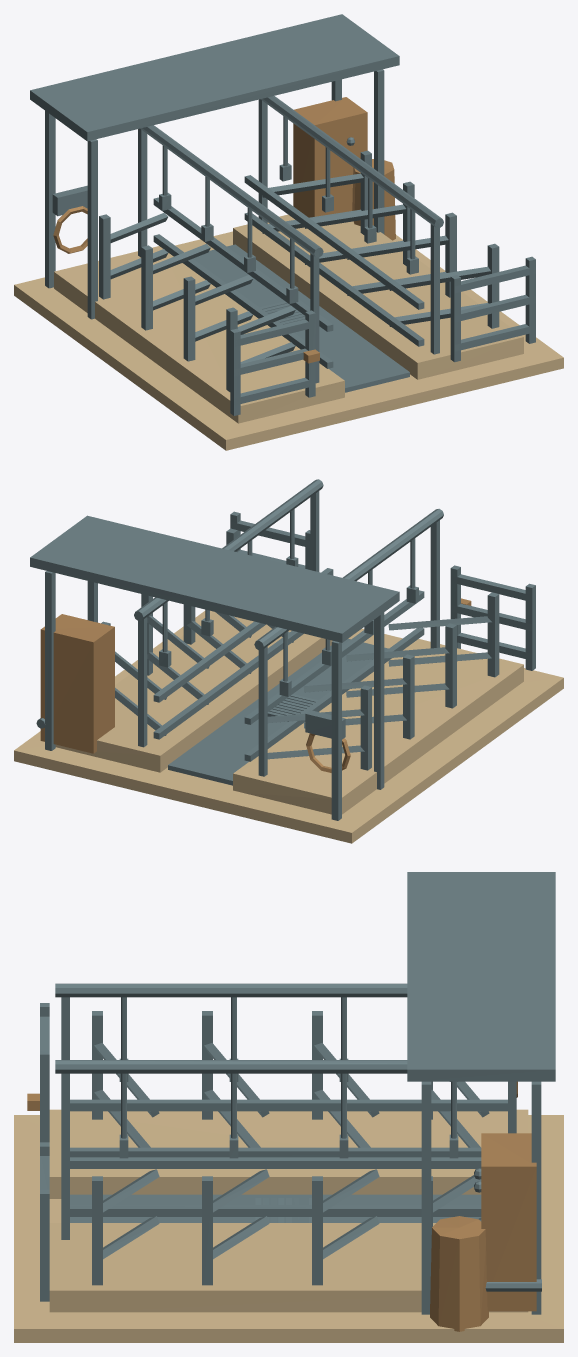
File: automated-milking-parlor.source.glb
The picture shows the model from 3 angles, top to bottom: view 1: azimuth 30°, elevation 25°; view 2: azimuth 150°, elevation 25°; view 3: azimuth 270°, elevation 25°; orthographic projection. The views are drawn at different scales.
Visible parts, largest first — view 1: automated-milking-parlor-equipment-canopy-roof-mesh, automated-milking-parlor-parlor-slab-mesh, automated-milking-parlor-left-stall-platform-mesh, automated-milking-parlor-right-stall-platform-mesh, automated-milking-parlor-central-operator-lane-mesh, automated-milking-parlor-control-cabinet-mesh, automated-milking-parlor-left-milk-main-mesh, automated-milking-parlor-right-milk-main-mesh, automated-milking-parlor-right-inner-long-rail-1.02-mesh, automated-milking-parlor-right-inner-long-rail-0.54-mesh, automated-milking-parlor-canopy-post--1.95--1.25-mesh, automated-milking-parlor-canopy-post--1.95--2.25-mesh (+33 smaller); view 2: automated-milking-parlor-equipment-canopy-roof-mesh, automated-milking-parlor-parlor-slab-mesh, automated-milking-parlor-left-stall-platform-mesh, automated-milking-parlor-right-stall-platform-mesh, automated-milking-parlor-control-cabinet-mesh, automated-milking-parlor-central-operator-lane-mesh, automated-milking-parlor-canopy-post--1.95--2.25-mesh, automated-milking-parlor-canopy-post--1.95--1.25-mesh, automated-milking-parlor-canopy-post-1.95--2.25-mesh, automated-milking-parlor-left-milk-main-mesh, automated-milking-parlor-right-milk-main-mesh, automated-milking-parlor-right-inner-long-rail-0.54-mesh (+28 smaller); view 3: automated-milking-parlor-equipment-canopy-roof-mesh, automated-milking-parlor-right-stall-platform-mesh, automated-milking-parlor-parlor-slab-mesh, automated-milking-parlor-left-stall-platform-mesh, automated-milking-parlor-control-cabinet-mesh, automated-milking-parlor-pressure-vessel-mesh, automated-milking-parlor-left-milk-main-mesh, automated-milking-parlor-left-inner-long-rail-1.02-mesh, automated-milking-parlor-right-milk-main-mesh, automated-milking-parlor-right-inner-long-rail-1.02-mesh, automated-milking-parlor-central-operator-lane-mesh, automated-milking-parlor-right-inner-long-rail-0.54-mesh (+19 smaller).
Part boxes in pixels (x1,y1,x2,y2): automated-milking-parlor-equipment-canopy-roof-mesh: (30,14,399,141); automated-milking-parlor-parlor-slab-mesh: (14,231,563,450); automated-milking-parlor-left-stall-platform-mesh: (54,246,344,423); automated-milking-parlor-right-stall-platform-mesh: (233,214,523,379); automated-milking-parlor-central-operator-lane-mesh: (193,244,409,392); automated-milking-parlor-control-cabinet-mesh: (293,97,367,217); automated-milking-parlor-left-milk-main-mesh: (140,125,323,257); automated-milking-parlor-right-milk-main-mesh: (260,96,443,228); automated-milking-parlor-right-inner-long-rail-1.02-mesh: (244,175,424,309); automated-milking-parlor-right-inner-long-rail-0.54-mesh: (244,212,424,346); automated-milking-parlor-canopy-post--1.95--1.25-mesh: (87,139,97,319); automated-milking-parlor-canopy-post--1.95--2.25-mesh: (45,111,55,288); automated-milking-parlor-equipment-canopy-roof-mesh: (30,515,399,642); automated-milking-parlor-parlor-slab-mesh: (14,610,563,843); automated-milking-parlor-left-stall-platform-mesh: (233,639,523,814); automated-milking-parlor-right-stall-platform-mesh: (55,612,332,772); automated-milking-parlor-control-cabinet-mesh: (40,614,114,753); automated-milking-parlor-central-operator-lane-mesh: (168,638,388,785); automated-milking-parlor-canopy-post--1.95--2.25-mesh: (331,641,341,820); automated-milking-parlor-canopy-post--1.95--1.25-mesh: (374,612,384,789); automated-milking-parlor-canopy-post-1.95--2.25-mesh: (45,571,55,750); automated-milking-parlor-left-milk-main-mesh: (254,508,443,650); automated-milking-parlor-right-milk-main-mesh: (134,479,323,620); automated-milking-parlor-right-inner-long-rail-0.54-mesh: (153,630,303,739); automated-milking-parlor-equipment-canopy-roof-mesh: (407,872,555,1081); automated-milking-parlor-right-stall-platform-mesh: (49,1223,528,1312); automated-milking-parlor-parlor-slab-mesh: (14,1115,563,1342); automated-milking-parlor-left-stall-platform-mesh: (49,1109,528,1198); automated-milking-parlor-control-cabinet-mesh: (481,1133,536,1311); automated-milking-parlor-pressure-vessel-mesh: (430,1216,488,1331); automated-milking-parlor-left-milk-main-mesh: (55,983,407,997); automated-milking-parlor-left-inner-long-rail-1.02-mesh: (70,1099,507,1111); automated-milking-parlor-right-milk-main-mesh: (55,1060,407,1073); automated-milking-parlor-right-inner-long-rail-1.02-mesh: (70,1157,481,1168); automated-milking-parlor-central-operator-lane-mesh: (70,1194,481,1222); automated-milking-parlor-right-inner-long-rail-0.54-mesh: (70,1205,481,1216).
Bounding box in the file's own units: 4.62 × 2.66 × 5.
